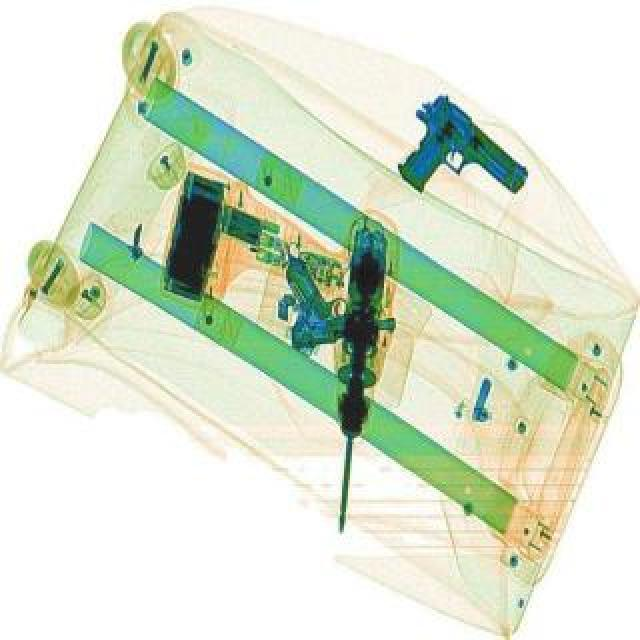gun: (372, 90, 534, 236), (270, 242, 398, 346)
